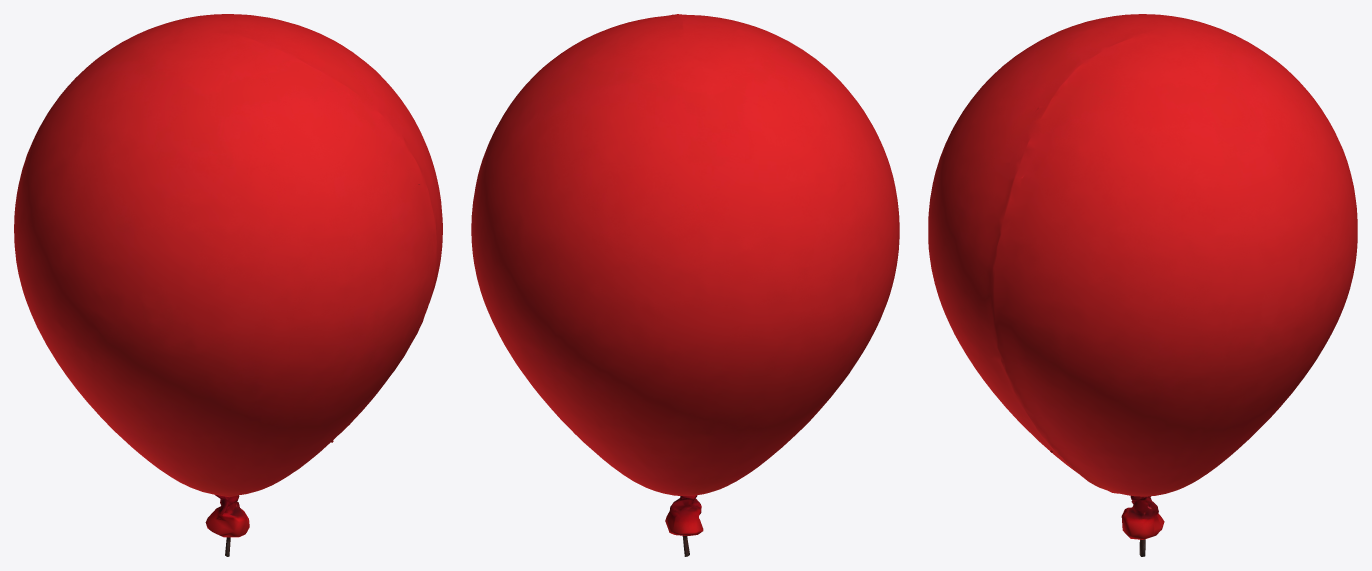
Rendered from partygoer-balloon.glb.
The picture shows the model from 3 angles, left to right: view 1: azimuth 30°, elevation 25°; view 2: azimuth 150°, elevation 25°; view 3: azimuth 270°, elevation 25°; orthographic projection.
Visible parts, largest first — view 1: tripo_node_c2340344-2b02-433f-90f2-ab852476d100; view 2: tripo_node_c2340344-2b02-433f-90f2-ab852476d100; view 3: tripo_node_c2340344-2b02-433f-90f2-ab852476d100.
Part boxes in pixels (x1=…): tripo_node_c2340344-2b02-433f-90f2-ab852476d100: x1=14, y1=14, x2=442, y2=556; tripo_node_c2340344-2b02-433f-90f2-ab852476d100: x1=471, y1=14, x2=899, y2=556; tripo_node_c2340344-2b02-433f-90f2-ab852476d100: x1=928, y1=14, x2=1357, y2=556.
Size of the model in its own units: 0.7299 by 0.9803 by 0.7294.
1 material, 1 textured.
